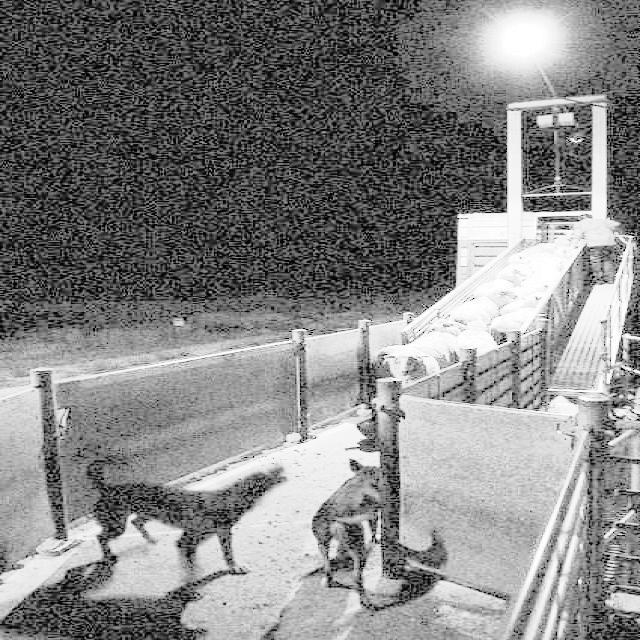Dog: (53, 457, 309, 564), (256, 479, 494, 580)
